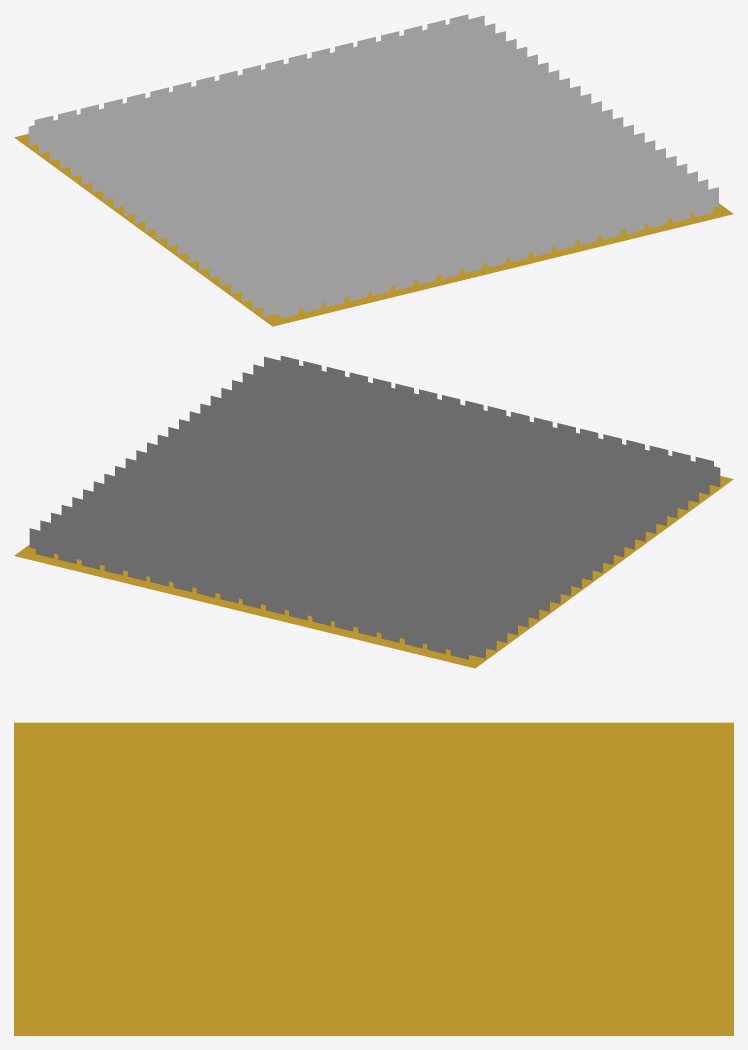
Rendered from SM_WheatFields.fbx.
The picture shows the model from 3 angles, top to bottom: view 1: azimuth 30°, elevation 25°; view 2: azimuth 150°, elevation 25°; view 3: azimuth 270°, elevation 25°; orthographic projection. The views are drawn at different scales.
Parts seen in each view (by area): view 1: Plane.056, Plane.055; view 2: Plane.056, Plane.055; view 3: Plane.055.
Boxes of the visible parts, bbox=[...] form: Plane.056: bbox=[28, 14, 718, 318]; Plane.055: bbox=[14, 134, 733, 326]; Plane.056: bbox=[29, 355, 720, 659]; Plane.055: bbox=[14, 476, 733, 668]; Plane.055: bbox=[14, 722, 733, 1035].
Size of the model in its own units: 5000 by 200 by 4856.
